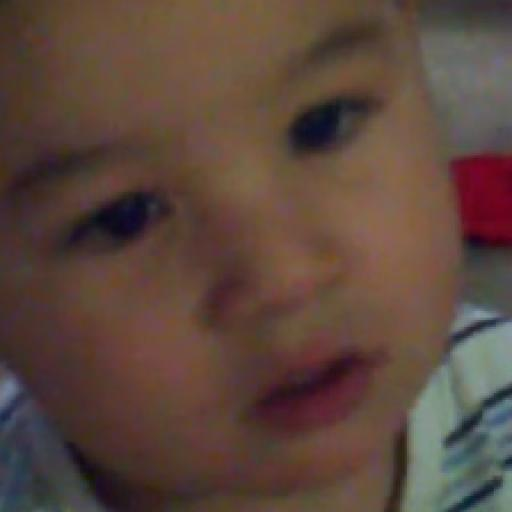Autism: (8, 1, 461, 499)
